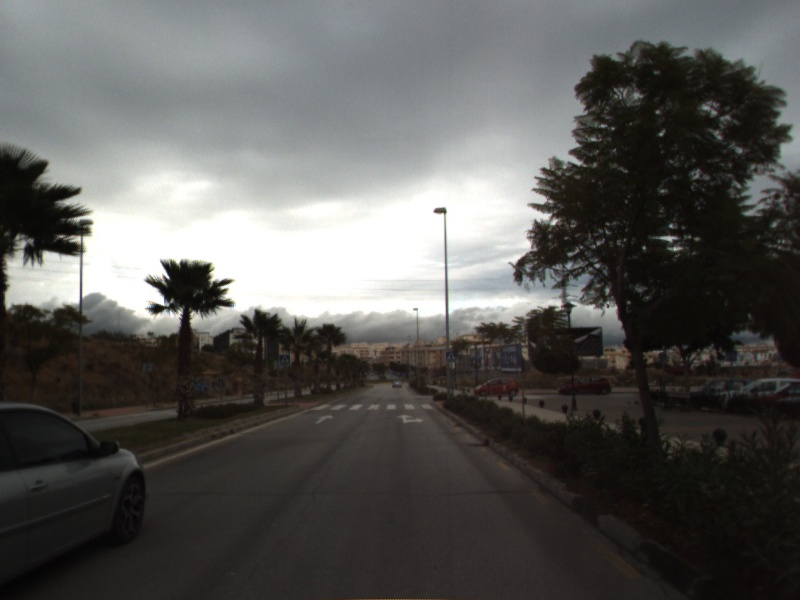STRAIGHT: (313, 413, 336, 425)
STRAIGHT_RIGHT: (395, 412, 426, 425)
